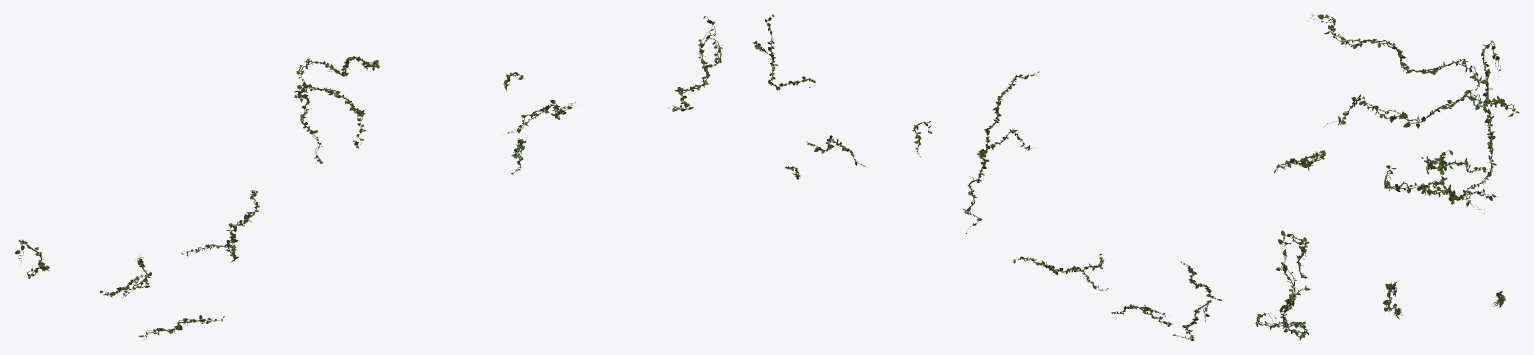
File: Vines Upper Stairs 1.fbx
3 views of the same model, side by side, from view 1: azimuth 30°, elevation 25°; view 2: azimuth 150°, elevation 25°; view 3: azimuth 270°, elevation 25° (orthographic). The views are drawn at different scales.
Visible parts, largest first — view 1: BézierCurve.001; view 2: BézierCurve.001; view 3: BézierCurve.001.
Part boxes in pixels (x1,y1,x2,y2): BézierCurve.001: (14,16,723,339); BézierCurve.001: (752,14,1221,340); BézierCurve.001: (1255,14,1519,340).
Bounding box in the file's own units: 50.8 × 16.96 × 14.59.
Materials: 2 (1 with a texture image).
